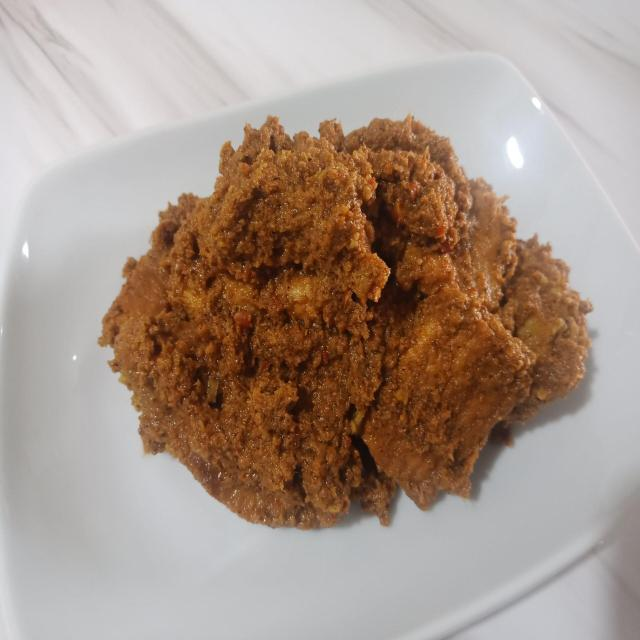Rendang: (102, 111, 597, 532)
